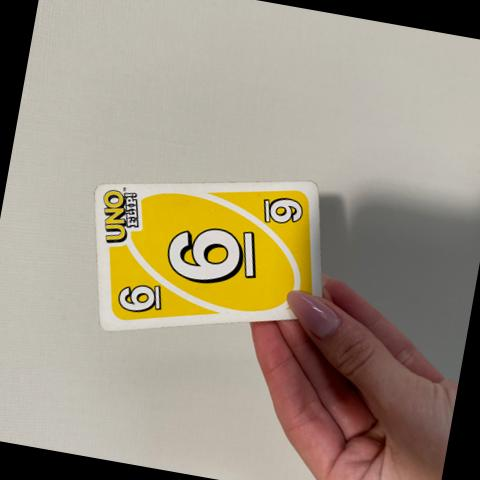lyellow-6: (103, 266, 172, 324)
